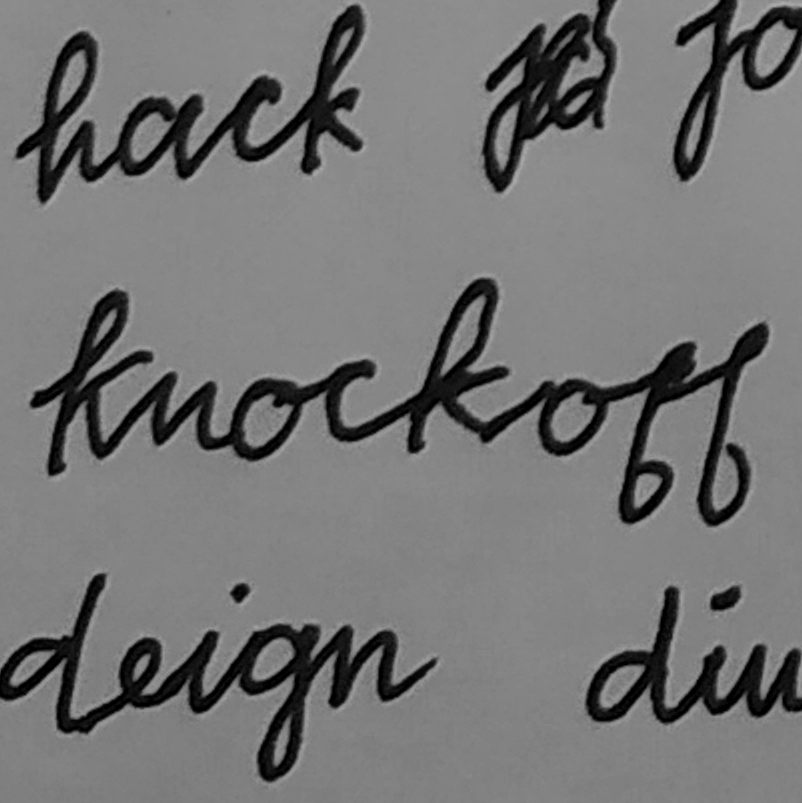c: (312, 355, 386, 445)
f: (694, 319, 775, 528), (614, 336, 699, 530)
k: (43, 282, 158, 479), (399, 272, 514, 460)
n: (145, 366, 224, 463)
o: (227, 369, 310, 467), (530, 372, 611, 463)
